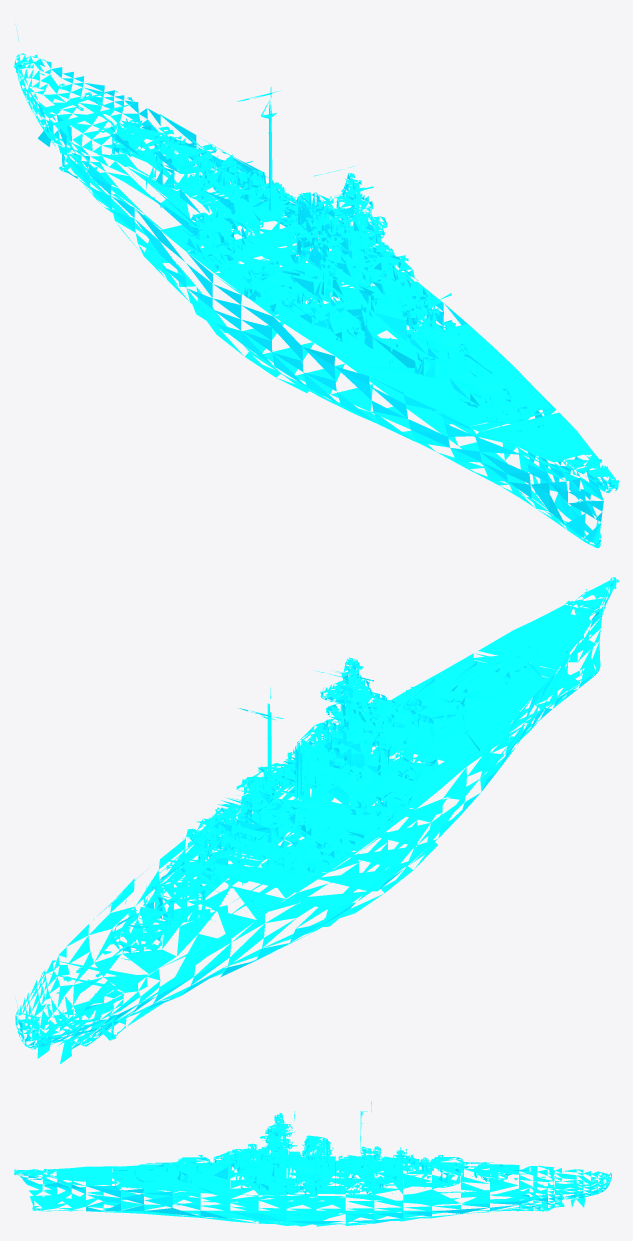
Rendered from Black_Tirpitz.glb.
The picture shows the model from 3 angles, top to bottom: view 1: azimuth 30°, elevation 25°; view 2: azimuth 150°, elevation 25°; view 3: azimuth 270°, elevation 25°; orthographic projection. The views are drawn at different scales.
Bounding box in the file's own units: 2.46 × 3.62 × 16.89.
